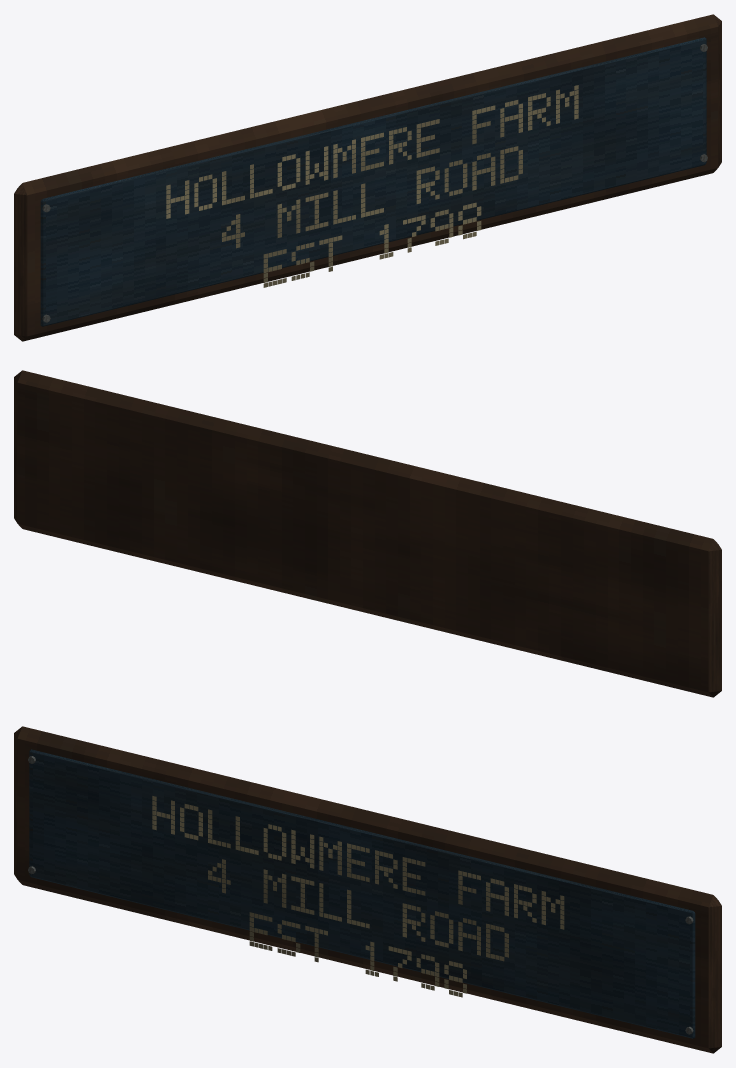
Rendered from level_sign_farmhouse_worn.glb.
3 renders of one model, top to bottom at view 1: azimuth 30°, elevation 25°; view 2: azimuth 150°, elevation 25°; view 3: azimuth 330°, elevation 25°, orthographic.
Parts seen in each view (by area): view 1: level_sign_farmhouse_worn; view 2: level_sign_farmhouse_worn; view 3: level_sign_farmhouse_worn.
Boxes of the visible parts, box(x1,y1,x2,y2) form: level_sign_farmhouse_worn: box(14, 14, 721, 341); level_sign_farmhouse_worn: box(14, 370, 721, 697); level_sign_farmhouse_worn: box(14, 726, 721, 1053).
Size of the model in its own units: 1.68 by 0.36 by 0.053.
4 materials, 4 textured.
